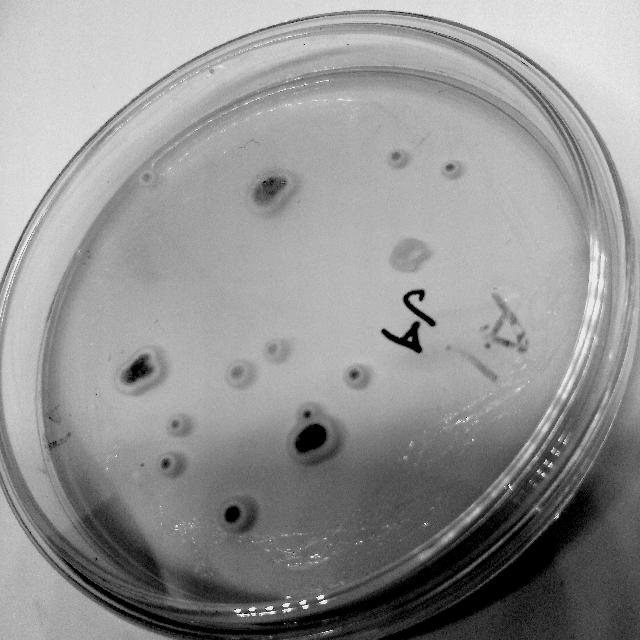colony: (246, 170, 296, 217), (387, 236, 433, 274), (218, 498, 254, 534), (302, 418, 336, 450), (110, 364, 138, 398), (224, 361, 254, 389), (288, 430, 314, 460), (342, 364, 368, 388), (261, 338, 287, 362), (132, 344, 158, 366), (136, 362, 162, 384), (134, 167, 158, 190), (156, 454, 180, 476), (384, 148, 408, 168), (296, 403, 318, 422), (441, 158, 461, 178), (166, 415, 186, 433)
